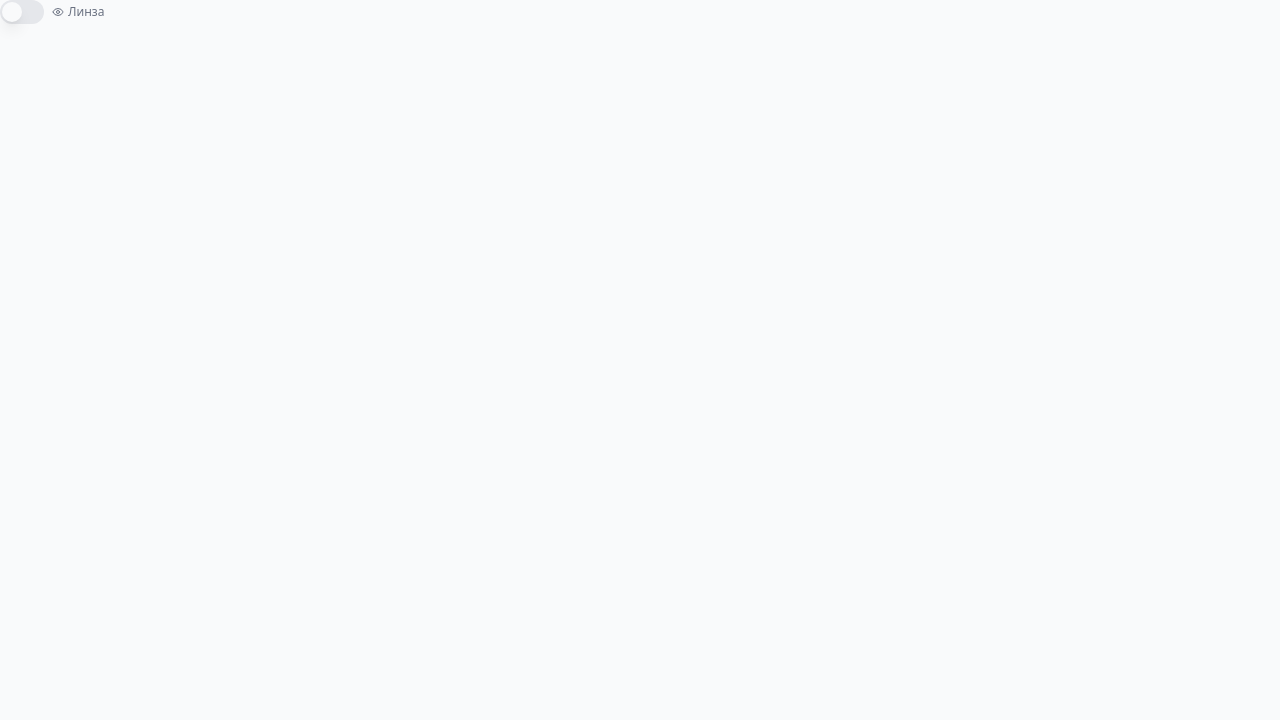
Scenario: LensSettingsSection — переключение и счётчик задач › клик по переключателю включает линзу, показывает блок тегов и обновляет счётчик
Check: the text "Тэги линзы" is not shown
Click the switch: (22, 12) [0,0,44,24]
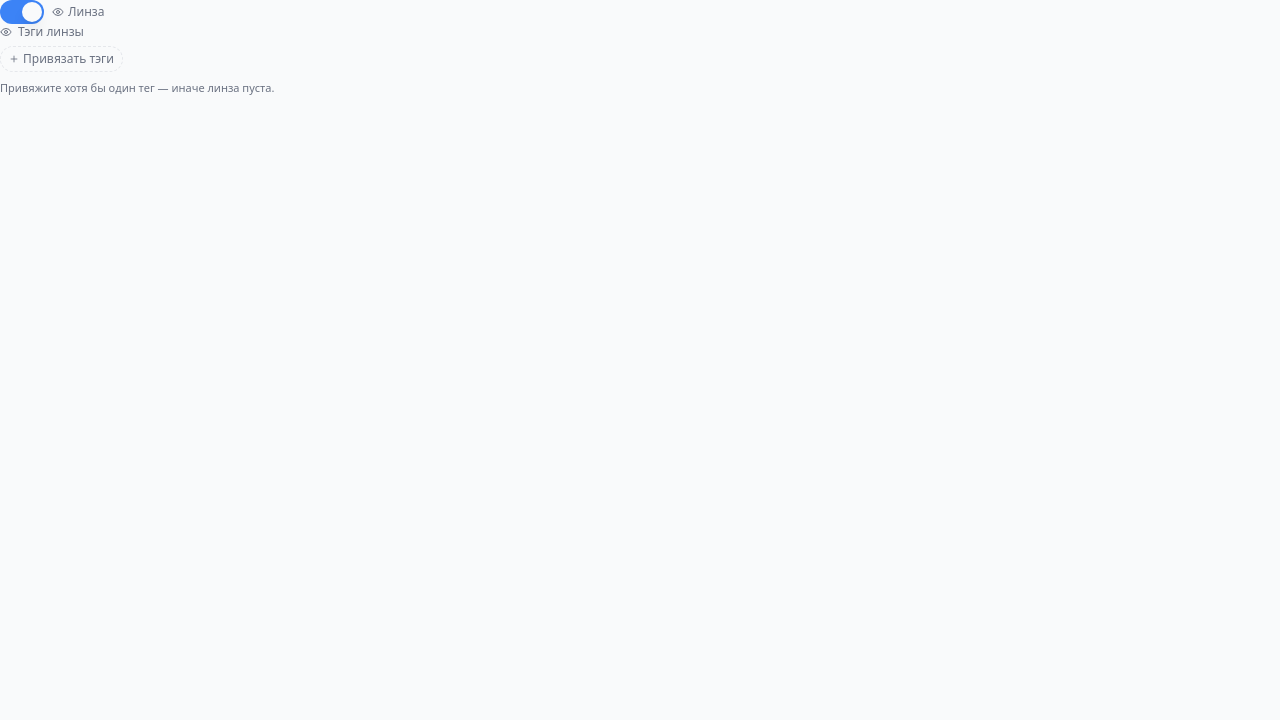
Check: the text "Тэги линзы" is shown, box [0,23,84,40]
Check: the text "Привяжите хотя бы один тег — иначе линза пуста." is shown, box [0,80,274,95]
# Открываем picker и выбираем тэг
Click the button "Привязать тэги": (62, 59) [0,46,123,72]
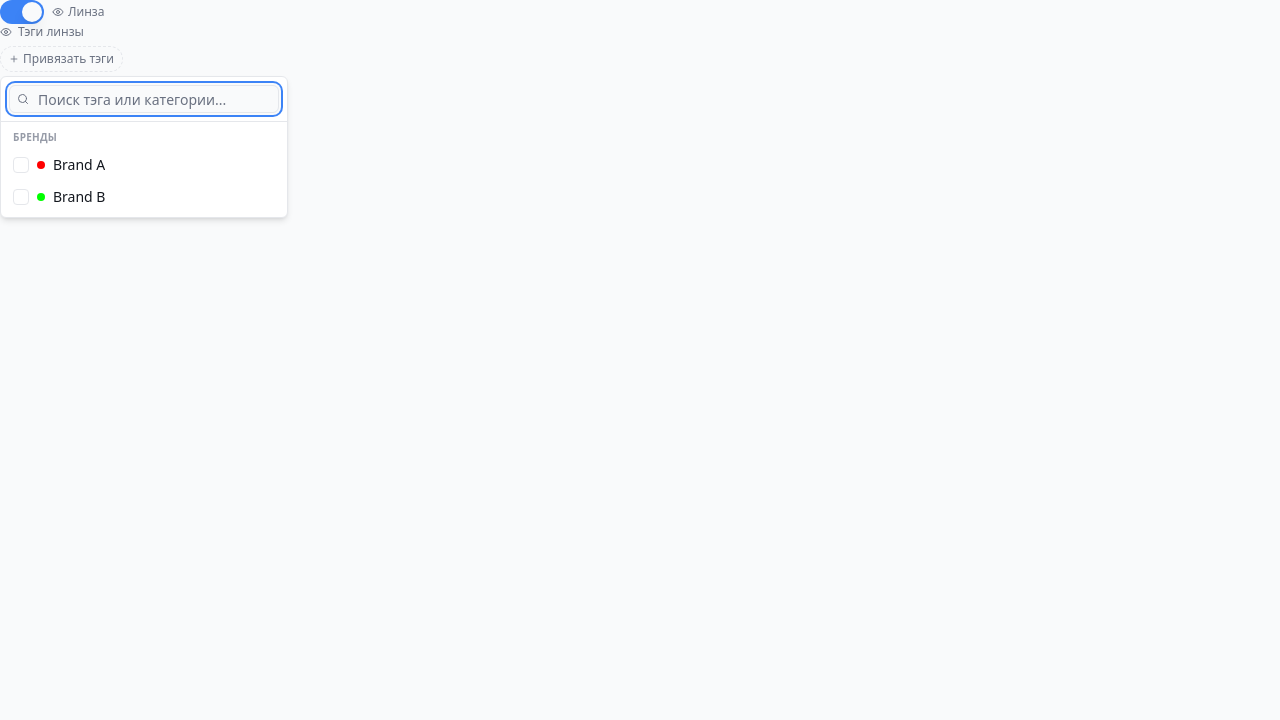
Click the button "Brand A": (79, 164) [5,149,283,181]
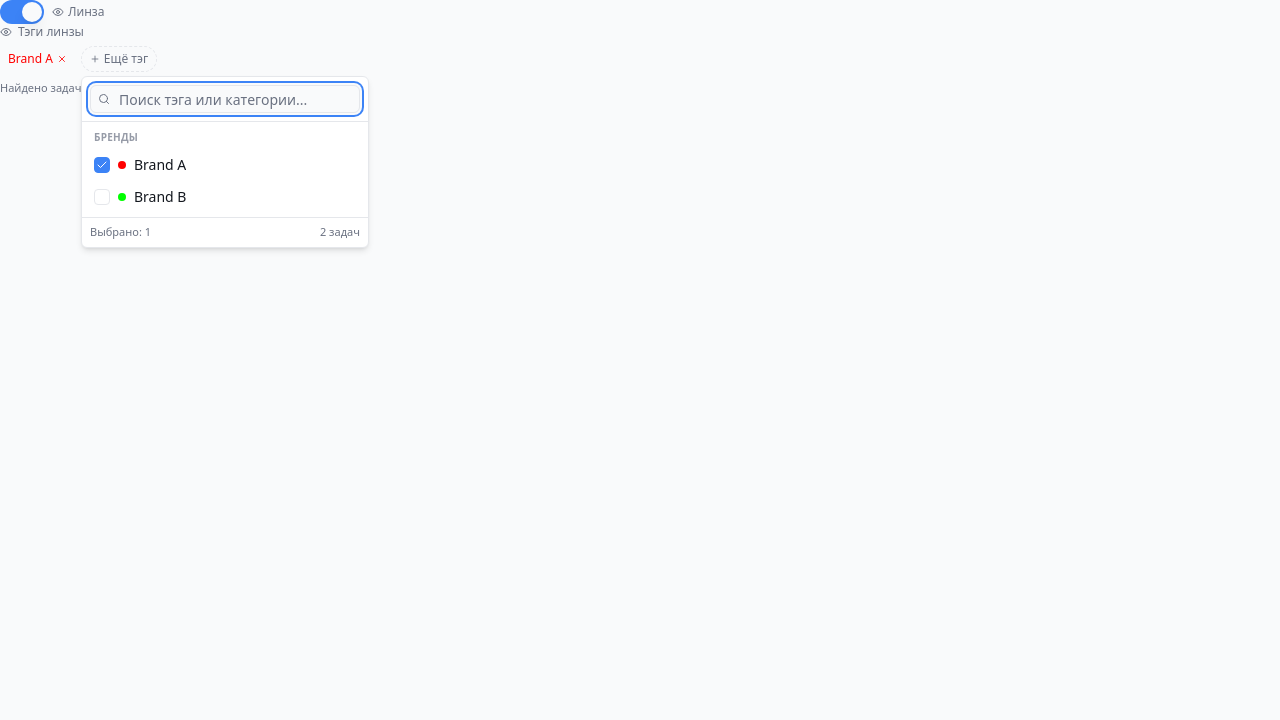
Check: the text "Найдено задач: 2 (OR по 1 тэгам)" is shown, box [0,80,177,95]
